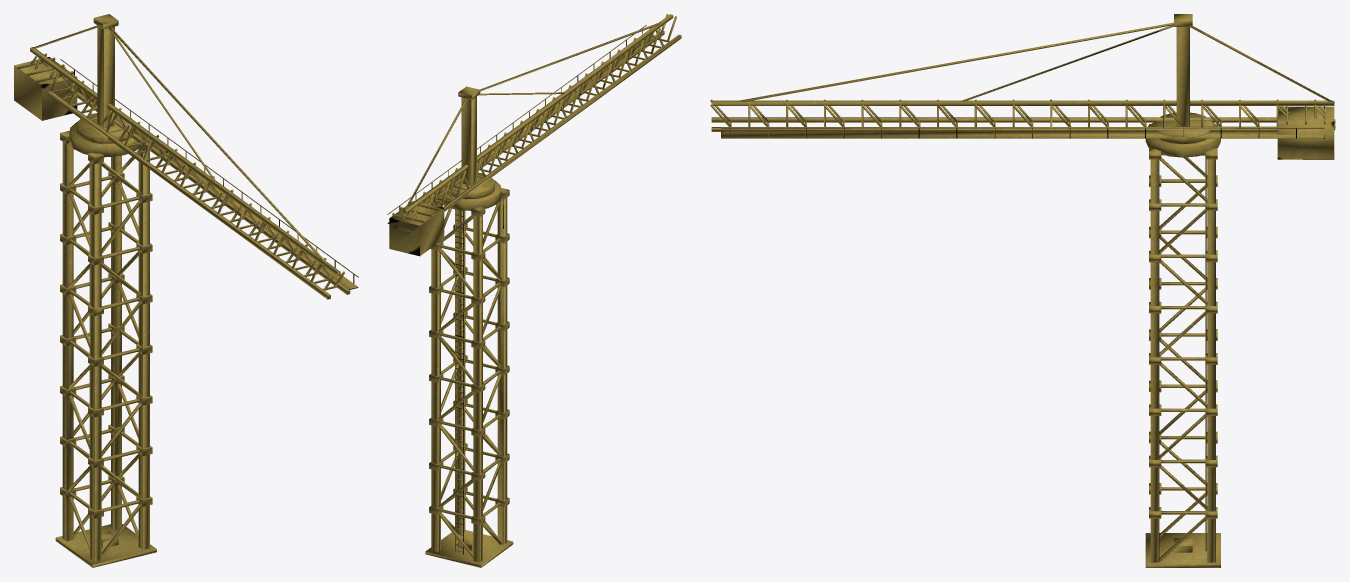
The model's file is Grua_Estructura.fbx.
3 views of the same model, side by side, from view 1: azimuth 30°, elevation 25°; view 2: azimuth 150°, elevation 25°; view 3: azimuth 270°, elevation 25° (orthographic). The views are drawn at different scales.
Parts seen in each view (by area): view 1: Grua_Estructura; view 2: Grua_Estructura; view 3: Grua_Estructura.
Part boxes in pixels (<box>): Grua_Estructura: <box>14,14,358,567</box>; Grua_Estructura: <box>387,14,681,567</box>; Grua_Estructura: <box>710,14,1335,567</box>.
Bounding box in the file's own units: 8 × 62.58 × 66.27.
